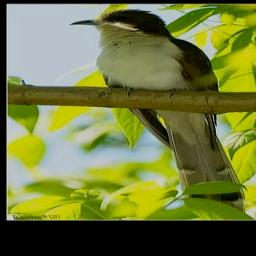Cuckoo: (70, 9, 248, 216)
